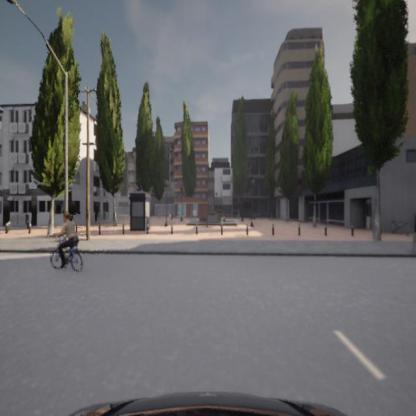bike: (49, 216, 83, 270)
